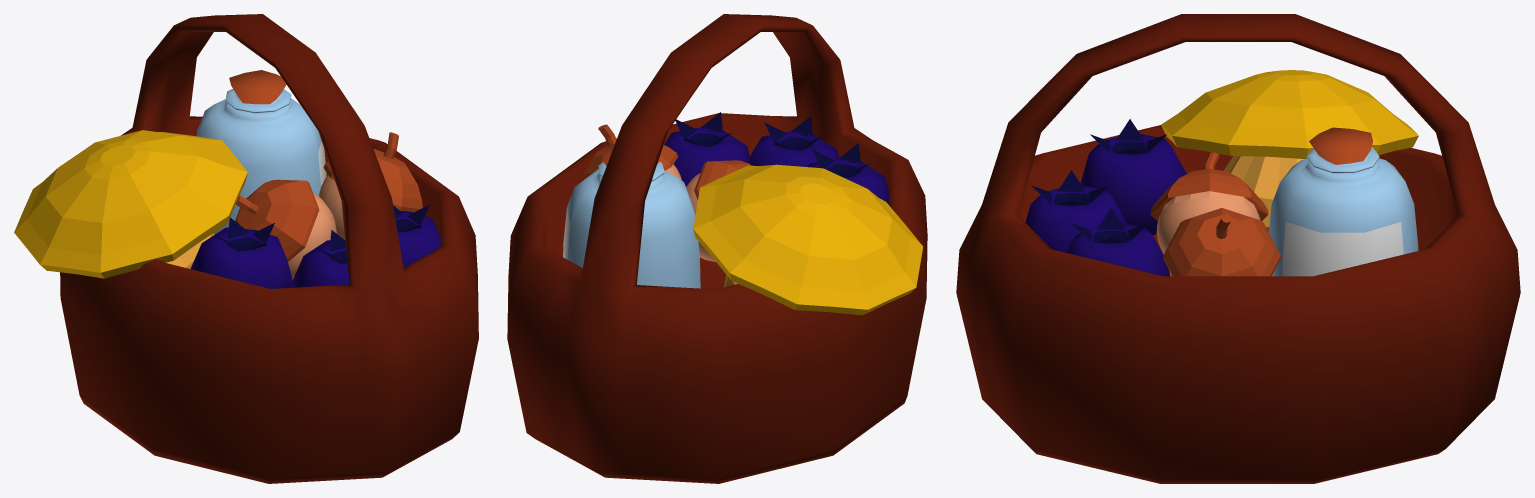
The model's file is AutumnForestBasket.fbx.
The picture shows the model from 3 angles, left to right: view 1: azimuth 30°, elevation 25°; view 2: azimuth 150°, elevation 25°; view 3: azimuth 270°, elevation 25°; orthographic projection. The views are drawn at different scales.
Visible parts, largest first — view 1: Cylinder.009, Cylinder.024, Cylinder.013, Cylinder.011, Cube.036, Cylinder.010, Cube.035, Cube.037; view 2: Cylinder.009, Cylinder.024, Cylinder.013, Cube.037, Cube.035, Cube.036, Cylinder.011, Cylinder.010; view 3: Cylinder.009, Cylinder.024, Cylinder.013, Cube.036, Cylinder.010, Cylinder.011, Cube.035, Cube.037.
Part boxes in pixels (x1,y1,x2,y2): Cylinder.009: [60, 14, 478, 483]; Cylinder.024: [14, 130, 247, 278]; Cylinder.013: [196, 70, 326, 234]; Cylinder.011: [235, 179, 336, 279]; Cube.036: [190, 217, 294, 288]; Cylinder.010: [319, 132, 422, 239]; Cube.035: [293, 230, 349, 287]; Cube.037: [393, 204, 440, 267]; Cylinder.009: [507, 14, 927, 483]; Cylinder.024: [693, 164, 923, 315]; Cylinder.013: [563, 144, 700, 288]; Cube.037: [664, 112, 749, 186]; Cube.035: [748, 116, 839, 166]; Cube.036: [808, 143, 888, 204]; Cylinder.011: [686, 160, 751, 261]; Cylinder.010: [582, 124, 681, 181]; Cylinder.009: [956, 14, 1520, 483]; Cylinder.024: [1161, 70, 1418, 231]; Cylinder.013: [1269, 127, 1418, 276]; Cube.036: [1080, 119, 1186, 235]; Cylinder.010: [1163, 208, 1280, 276]; Cylinder.011: [1150, 152, 1268, 254]; Cube.035: [1025, 170, 1127, 252]; Cube.037: [1067, 208, 1170, 276].
Size of the model in its own units: 161 by 142 by 190.
